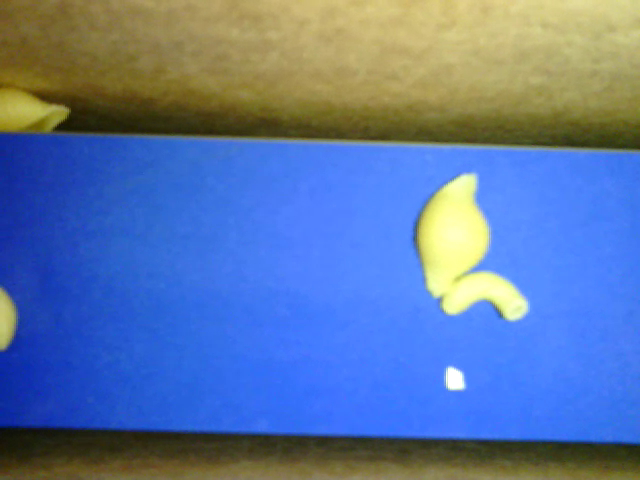elbow: (442, 271, 531, 322)
shell: (414, 172, 491, 295), (1, 85, 73, 133)
